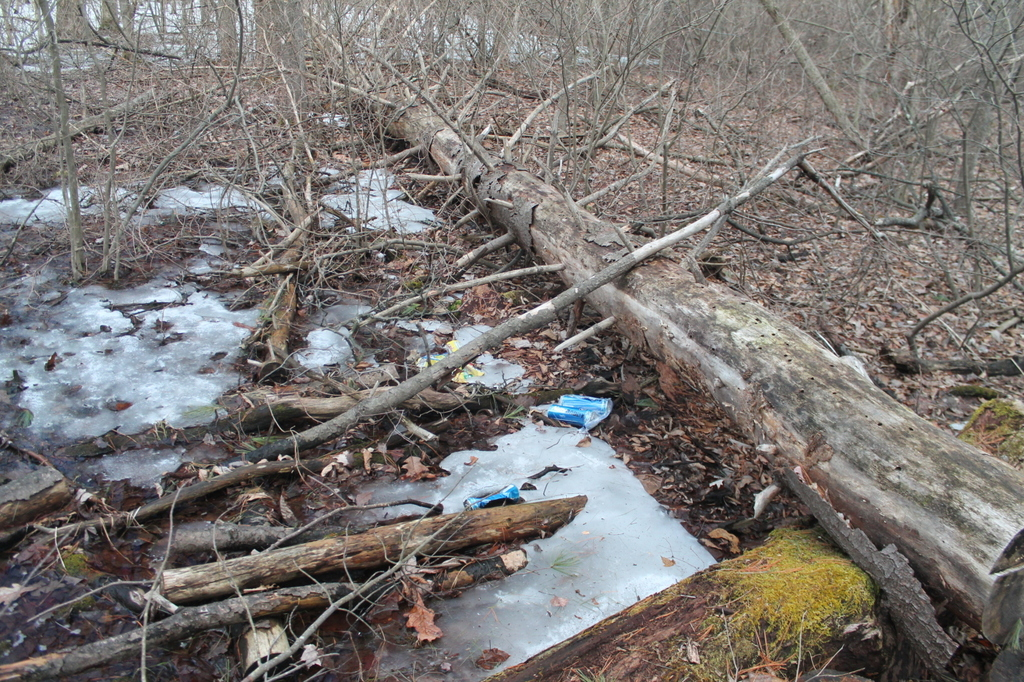Tree: (0, 0, 1023, 224)
